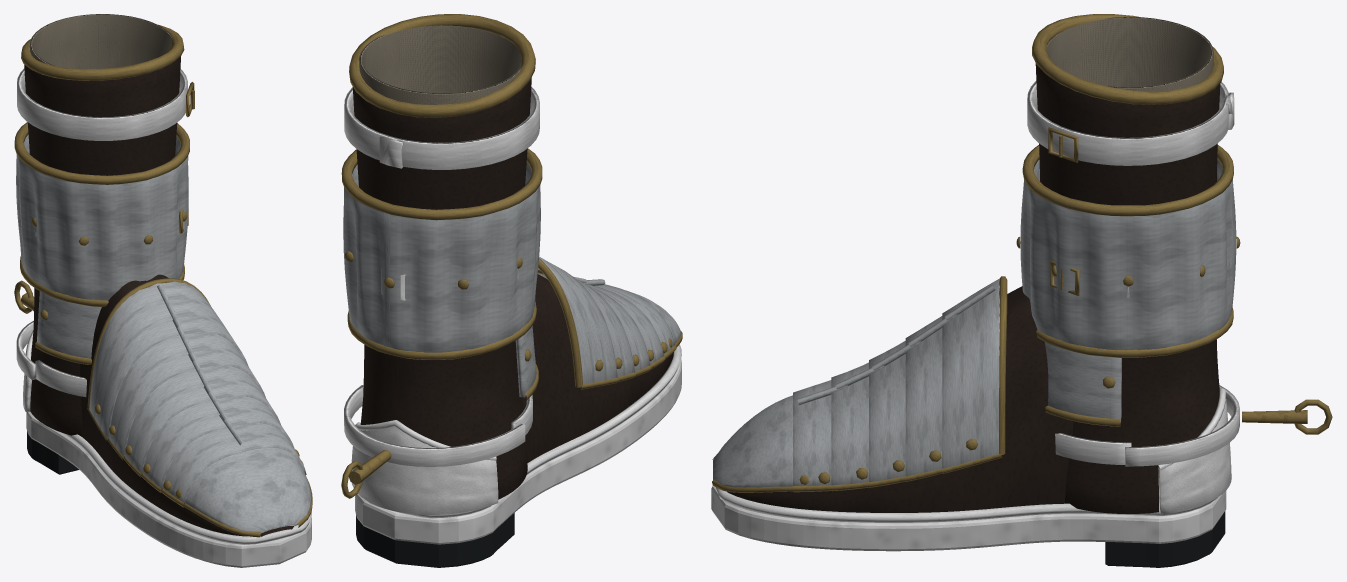
The picture shows the model from 3 angles, left to right: view 1: azimuth 30°, elevation 25°; view 2: azimuth 150°, elevation 25°; view 3: azimuth 270°, elevation 25°; orthographic projection. The views are drawn at different scales.
Visible parts, largest first — view 1: polished fluted plate, tanned leather, oiled strap leather, aged alloy edge, quilted linen lining, recess and lining; view 2: polished fluted plate, tanned leather, oiled strap leather, aged alloy edge, quilted linen lining, recess and lining; view 3: polished fluted plate, tanned leather, oiled strap leather, aged alloy edge, quilted linen lining, recess and lining.
Boxes of the visible parts, bbox=[...] form: polished fluted plate: bbox=[16, 134, 311, 533]; tanned leather: bbox=[24, 56, 293, 536]; oiled strap leather: bbox=[16, 68, 311, 567]; aged alloy edge: bbox=[14, 24, 312, 537]; quilted linen lining: bbox=[29, 14, 172, 68]; recess and lining: bbox=[27, 431, 78, 474]; polished fluted plate: bbox=[343, 162, 681, 397]; tanned leather: bbox=[352, 77, 673, 499]; oiled strap leather: bbox=[344, 87, 681, 544]; aged alloy edge: bbox=[341, 14, 682, 498]; quilted linen lining: bbox=[359, 25, 521, 104]; recess and lining: bbox=[356, 513, 514, 567]; polished fluted plate: bbox=[713, 159, 1236, 487]; tanned leather: bbox=[727, 63, 1220, 513]; oiled strap leather: bbox=[711, 81, 1239, 551]; aged alloy edge: bbox=[712, 14, 1332, 492]; quilted linen lining: bbox=[1046, 16, 1213, 91]; recess and lining: bbox=[1105, 511, 1225, 567].
Bounding box in the file's own units: 0.1093 × 0.2899 × 0.3308.
6 materials, 5 textured.
